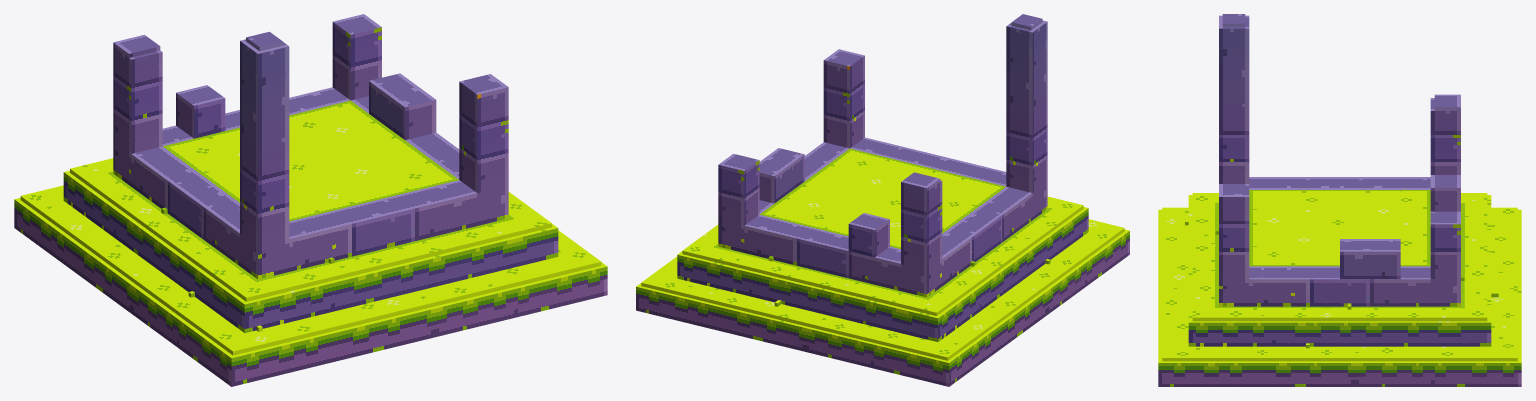
Rendered from gate_brokenao.fezao.glb.
3 renders of one model, left to right at view 1: azimuth 30°, elevation 25°; view 2: azimuth 150°, elevation 25°; view 3: azimuth 270°, elevation 25°, orthographic. The views are drawn at different scales.
Visible parts, largest first — view 1: GATE_BROKENAO; view 2: GATE_BROKENAO; view 3: GATE_BROKENAO.
Boxes of the visible parts, x1,y1,x2,y2 form: GATE_BROKENAO: (14,14,607,386); GATE_BROKENAO: (636,14,1129,386); GATE_BROKENAO: (1158,14,1521,386).
Size of the model in its own units: 6 by 4.5 by 6.
Materials: 1 (1 with a texture image).
